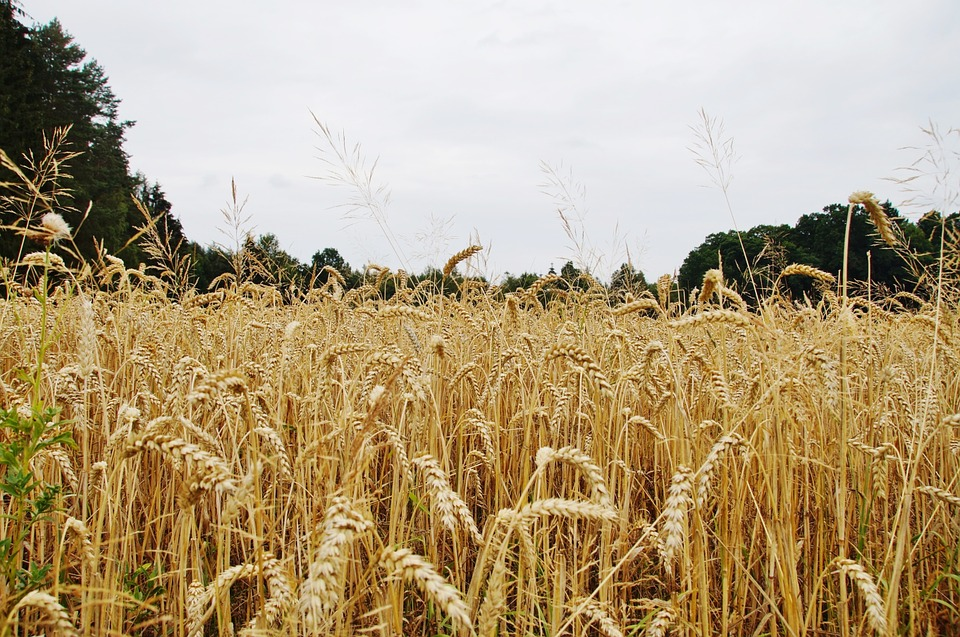Wheat: (153, 321, 831, 607)
